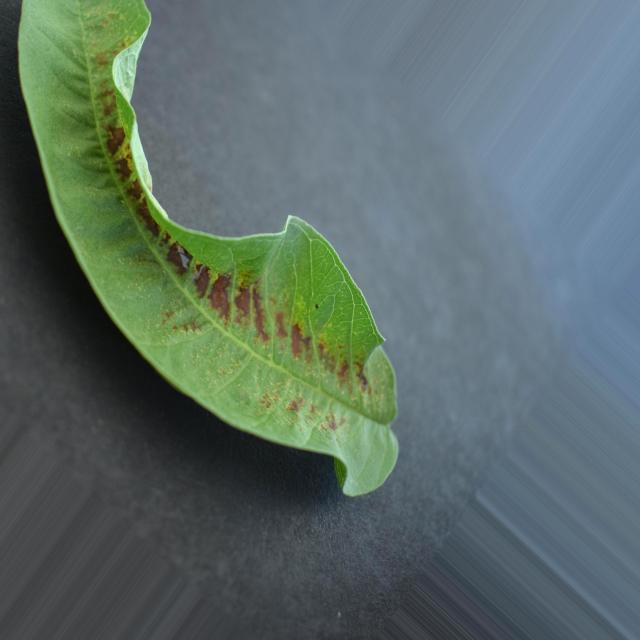Canker: (19, 0, 398, 497)
